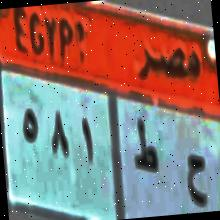1: (78, 112, 98, 168)
5: (21, 104, 42, 152)
7aa: (179, 145, 213, 214)
8: (48, 104, 70, 166)
Taa: (130, 115, 160, 183)
